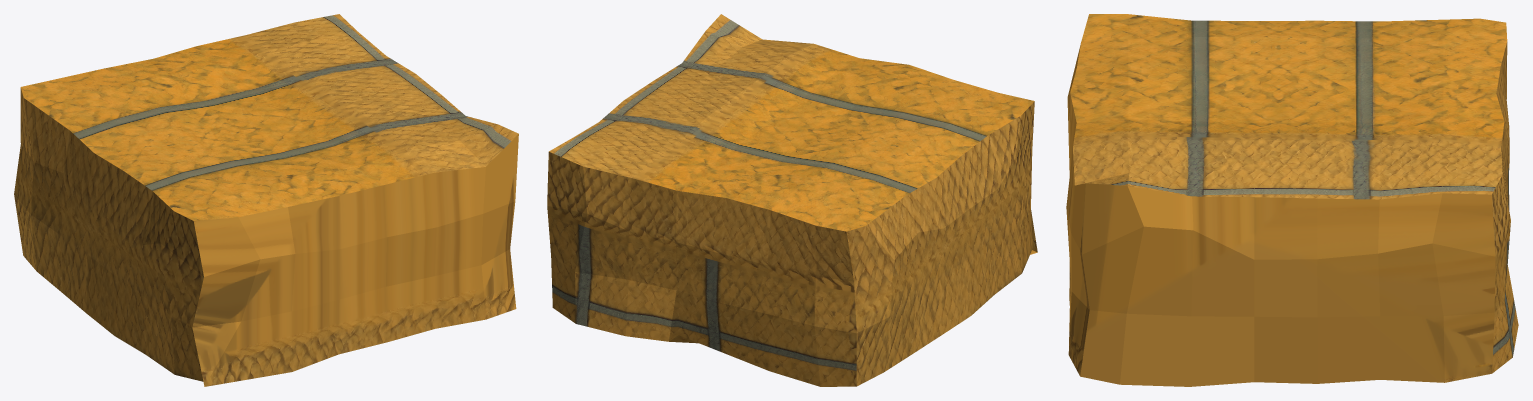
The model's file is 02Hay02 - Copy (2).fbx.
3 renders of one model, left to right at view 1: azimuth 30°, elevation 25°; view 2: azimuth 150°, elevation 25°; view 3: azimuth 270°, elevation 25°, orthographic. The views are drawn at different scales.
Visible parts, largest first — view 1: temp; view 2: temp; view 3: temp.
Part boxes in pixels (box(x1,y1,x2,y2)): temp: box(14, 14, 518, 386); temp: box(547, 14, 1037, 386); temp: box(1066, 14, 1518, 386).
Size of the model in its own units: 147 by 76.04 by 149.
Materials: 1 (1 with a texture image).
